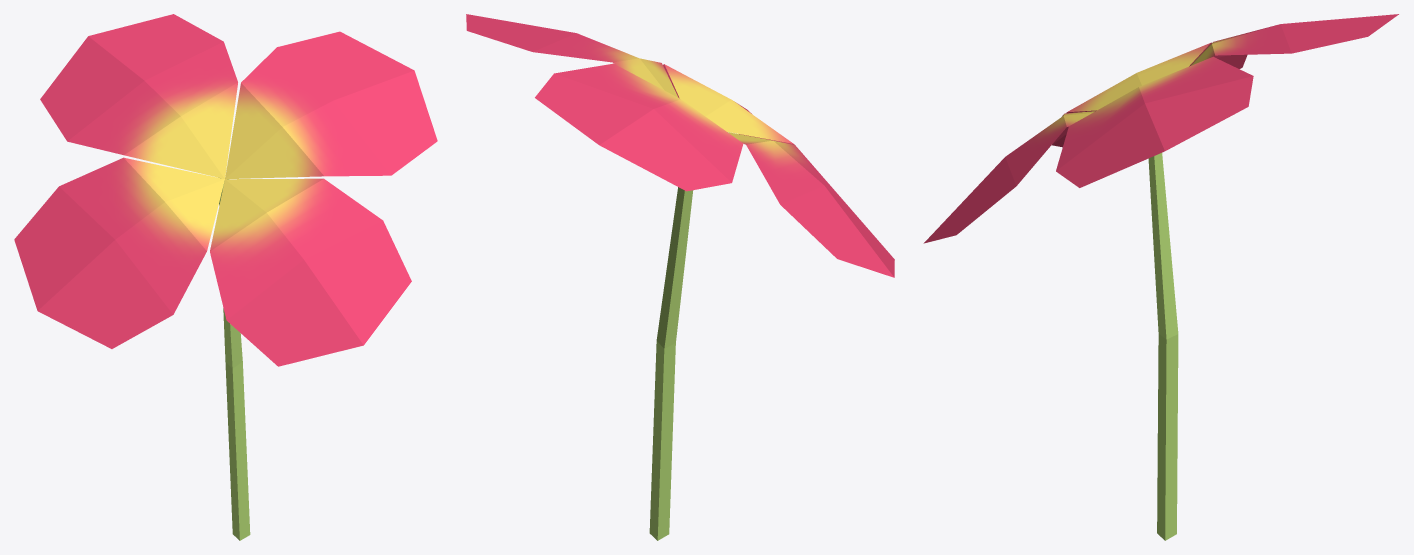
File: Flower_c_OneS_02.fbx
3 views of the same model, side by side, from view 1: azimuth 30°, elevation 25°; view 2: azimuth 150°, elevation 25°; view 3: azimuth 270°, elevation 25° (orthographic). The views are drawn at different scales.
Parts seen in each view (by area): view 1: Flower_c_OneS_02; view 2: Flower_c_OneS_02; view 3: Flower_c_OneS_02.
Part boxes in pixels (x1,y1,x2,y2): Flower_c_OneS_02: (14,14,437,540); Flower_c_OneS_02: (466,14,894,540); Flower_c_OneS_02: (923,14,1398,540).
Size of the model in its own units: 30.14 by 34.25 by 28.91.
